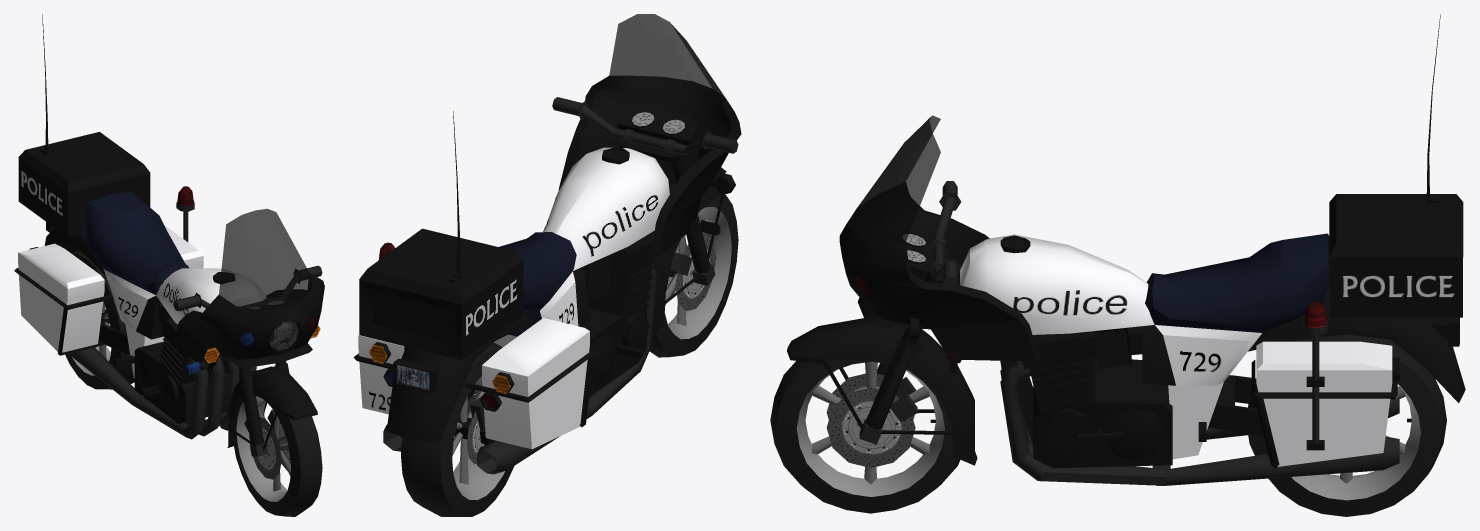
File: PoliceBike2.FBX
The picture shows the model from 3 angles, left to right: view 1: azimuth 30°, elevation 25°; view 2: azimuth 150°, elevation 25°; view 3: azimuth 270°, elevation 25°; orthographic projection. The views are drawn at different scales.
Visible parts, largest first — view 1: Body, Steer, FrontWheel, BackWheel, Rear; view 2: Body, BackWheel, Steer, FrontWheel, Rear; view 3: Body, Steer, FrontWheel, BackWheel, Rear.
Boxes of the visible parts, <box> form: Body: <box>14,14,324,439</box>; Steer: <box>173,265,322,479</box>; FrontWheel: <box>231,396,322,516</box>; BackWheel: <box>65,249,134,389</box>; Rear: <box>98,309,129,354</box>; Body: <box>353,14,741,474</box>; BackWheel: <box>401,342,514,516</box>; Steer: <box>552,97,738,337</box>; FrontWheel: <box>649,194,738,357</box>; Rear: <box>454,389,495,445</box>; Body: <box>839,14,1465,485</box>; Steer: <box>787,181,977,467</box>; FrontWheel: <box>770,359,960,513</box>; BackWheel: <box>1248,334,1446,516</box>; Rear: <box>1208,375,1263,436</box>.
Bounding box in the file's own units: 5.48 × 12.12 × 15.9.
